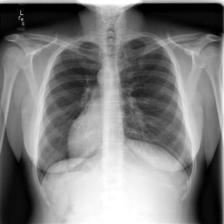normal: (33, 35, 196, 193)
